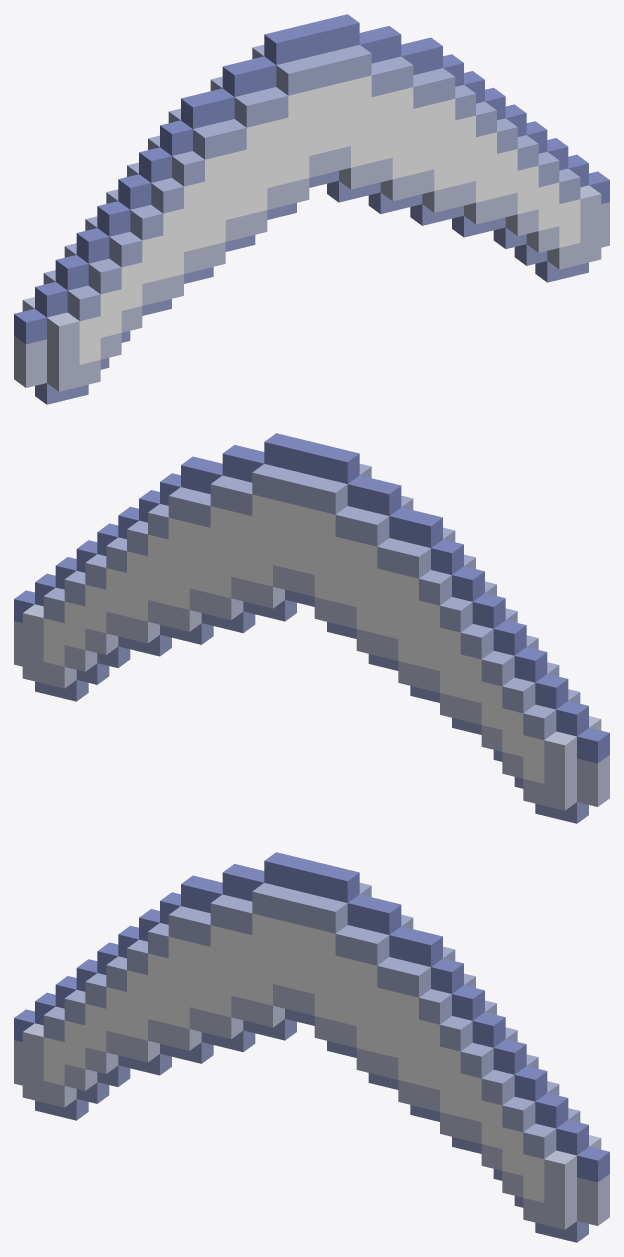
Rendered from boomerang.glb.
3 renders of one model, top to bottom at view 1: azimuth 30°, elevation 25°; view 2: azimuth 150°, elevation 25°; view 3: azimuth 330°, elevation 25°, orthographic.
Visible parts, largest first — view 1: boomerang; view 2: boomerang; view 3: boomerang.
Boxes of the visible parts, <box> form: boomerang: <box>14,14,609,404</box>; boomerang: <box>14,433,609,823</box>; boomerang: <box>14,852,609,1242</box>.
Bounding box in the file's own units: 2.8 × 1.4 × 0.3.
1 material, 1 textured.
